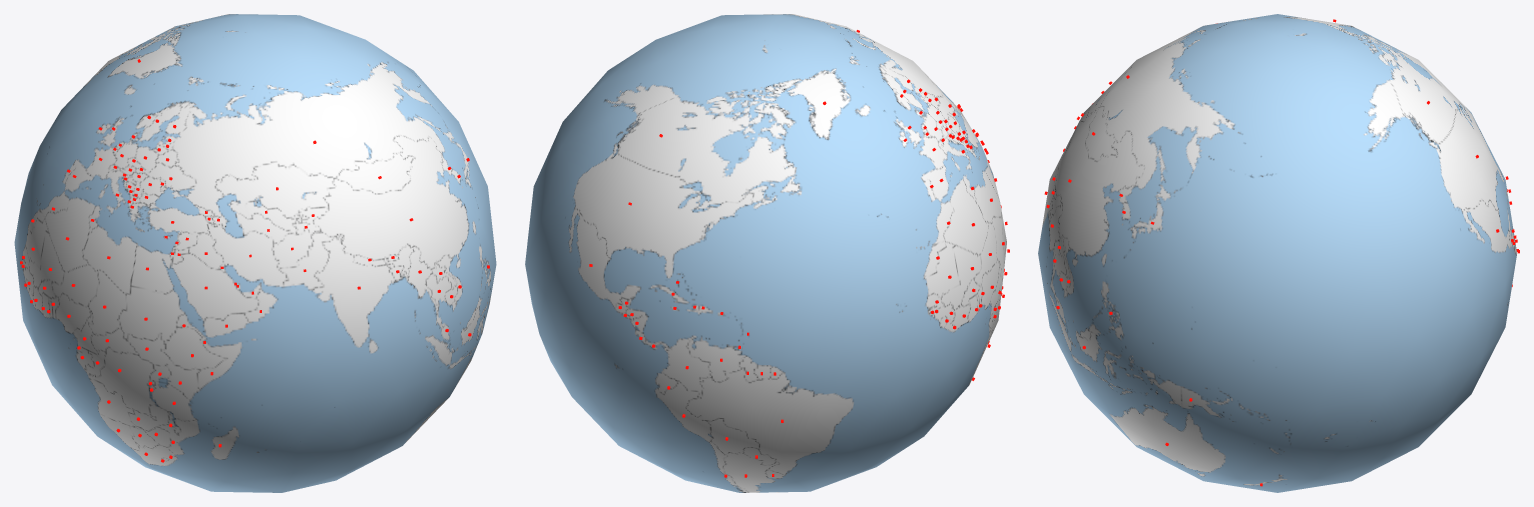
Rendered from globeAsset.glb.
3 renders of one model, left to right at view 1: azimuth 30°, elevation 25°; view 2: azimuth 150°, elevation 25°; view 3: azimuth 270°, elevation 25°, orthographic.
Parts seen in each view (by area): view 1: Icosphere; view 2: Icosphere; view 3: Icosphere.
Boxes of the visible parts, <box> form: Icosphere: <box>14,14,496,492</box>; Icosphere: <box>525,14,1006,492</box>; Icosphere: <box>1038,14,1516,492</box>.
Size of the model in its own units: 2.01 by 2.01 by 2.01.
Materials: 2 (1 with a texture image).
